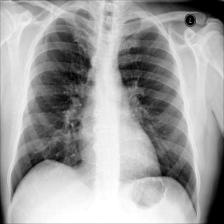normal: (5, 0, 202, 218)
